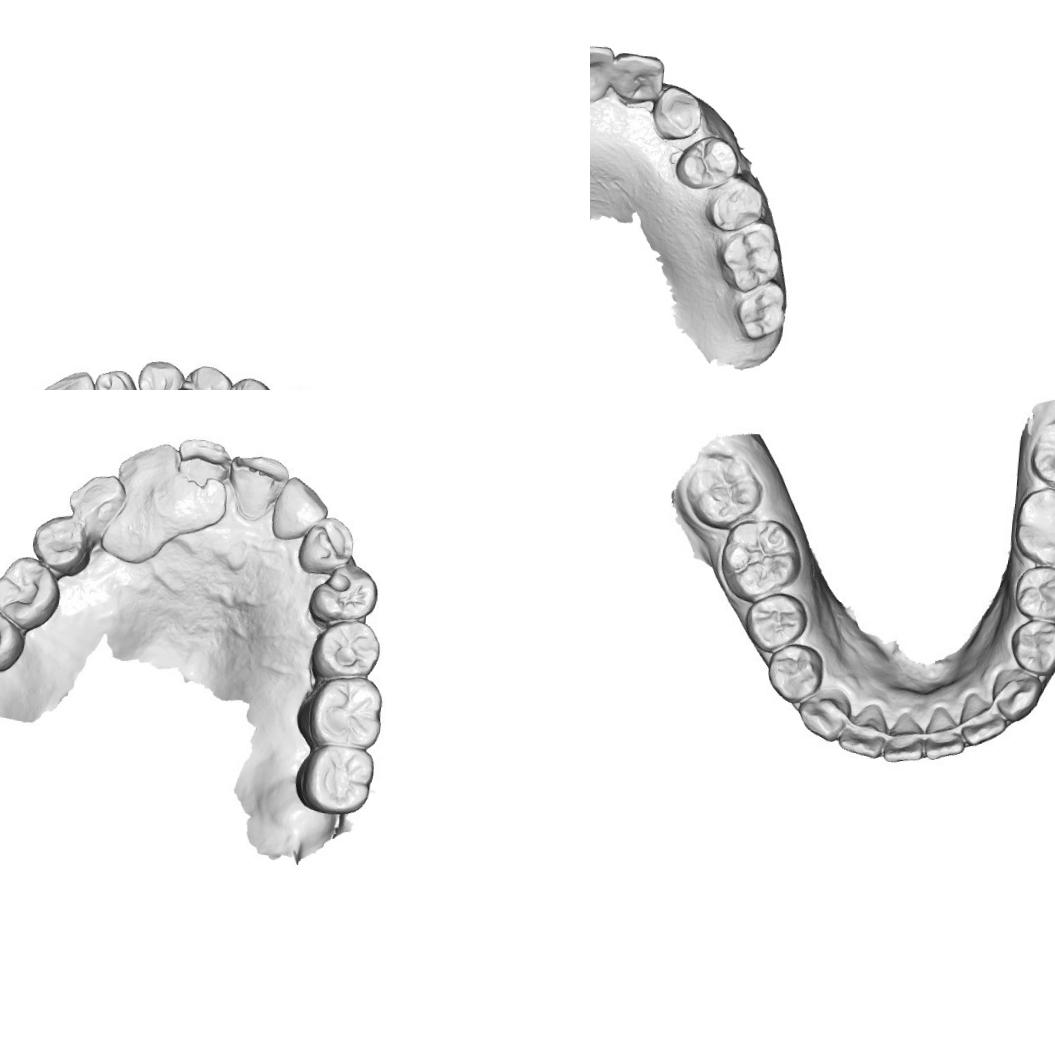canine: (647, 80, 707, 144), (292, 516, 352, 579), (988, 663, 1047, 725), (795, 685, 850, 742), (133, 351, 184, 390)
incisor: (225, 450, 284, 514), (608, 48, 667, 107), (271, 475, 325, 538), (176, 435, 230, 497), (958, 692, 1013, 752), (70, 473, 126, 529), (877, 710, 931, 766), (834, 700, 886, 758), (921, 704, 967, 764), (590, 36, 617, 106), (33, 364, 103, 390), (92, 362, 140, 390)
molar: (718, 518, 803, 605), (681, 449, 765, 531), (300, 670, 382, 749), (712, 217, 788, 296), (298, 741, 374, 819), (732, 278, 792, 345), (0, 556, 58, 624), (1011, 483, 1055, 572), (1029, 411, 1055, 491), (0, 603, 23, 672)
premolar: (670, 132, 740, 195), (740, 592, 812, 652), (312, 618, 380, 679), (312, 564, 376, 626), (763, 642, 822, 706), (706, 177, 768, 237), (1005, 616, 1055, 682), (33, 515, 88, 570), (1012, 564, 1055, 623), (168, 359, 234, 390), (211, 369, 277, 390)
